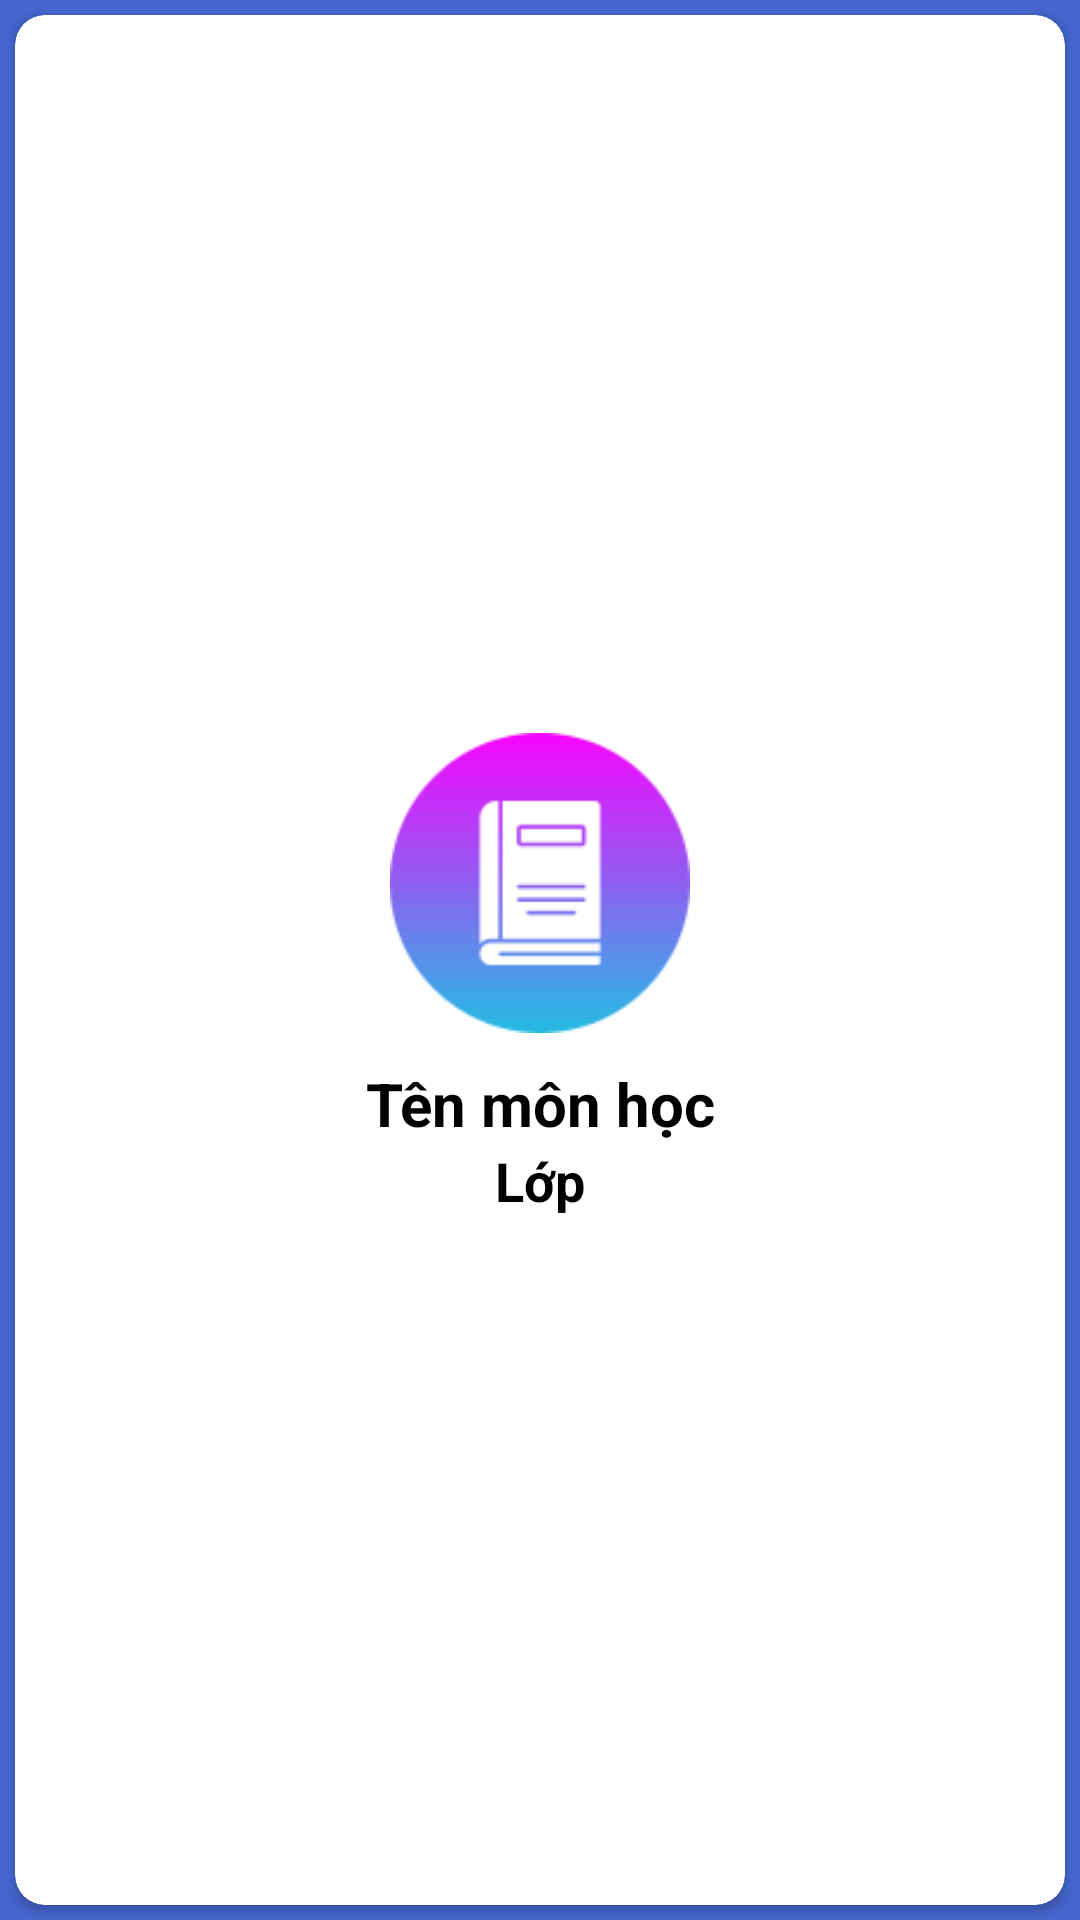

Where icons sit on this 1080w x 1920h app screen, as box(x1, y1, x2, y2):
book: box(390, 733, 690, 1033)
